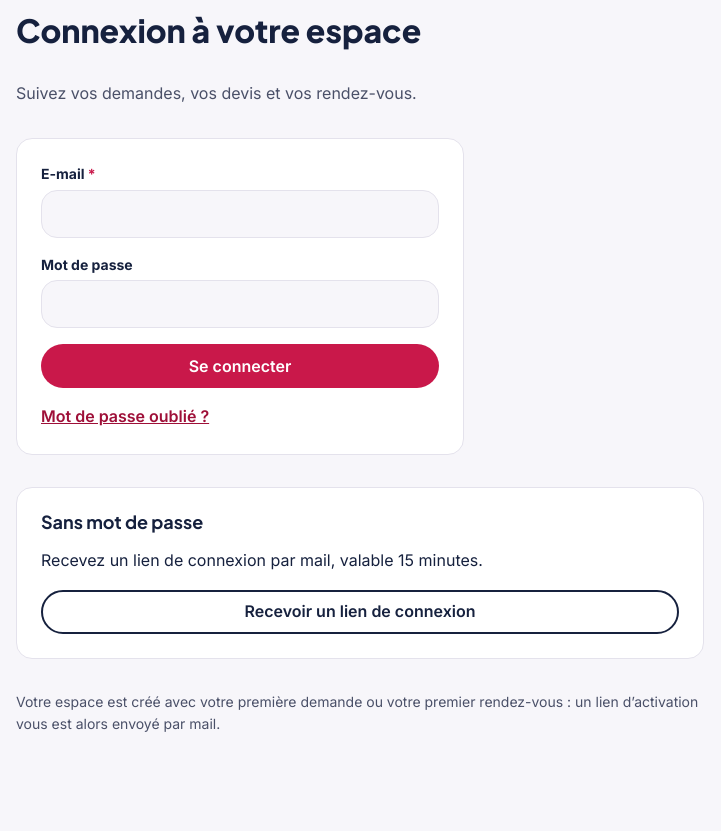
it: Connexion › signale des identifiants incorrects sans dire lequel
In the field labelled "E-mail *": (240, 214) [41, 190, 439, 238], type "marie@exemple.fr"
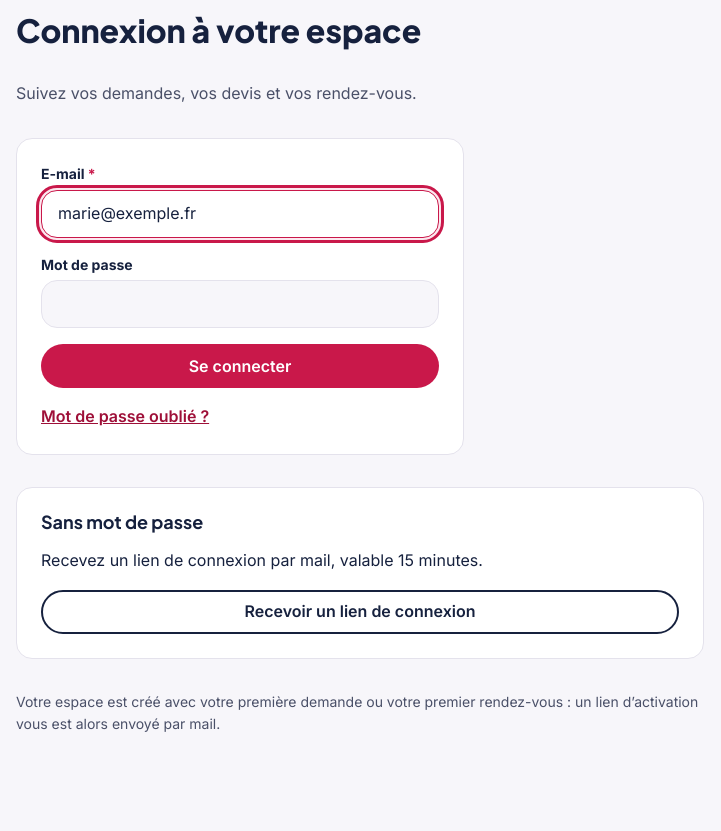
In the password field labelled "Mot de passe": (240, 304) [41, 280, 439, 328], type "mauvais"
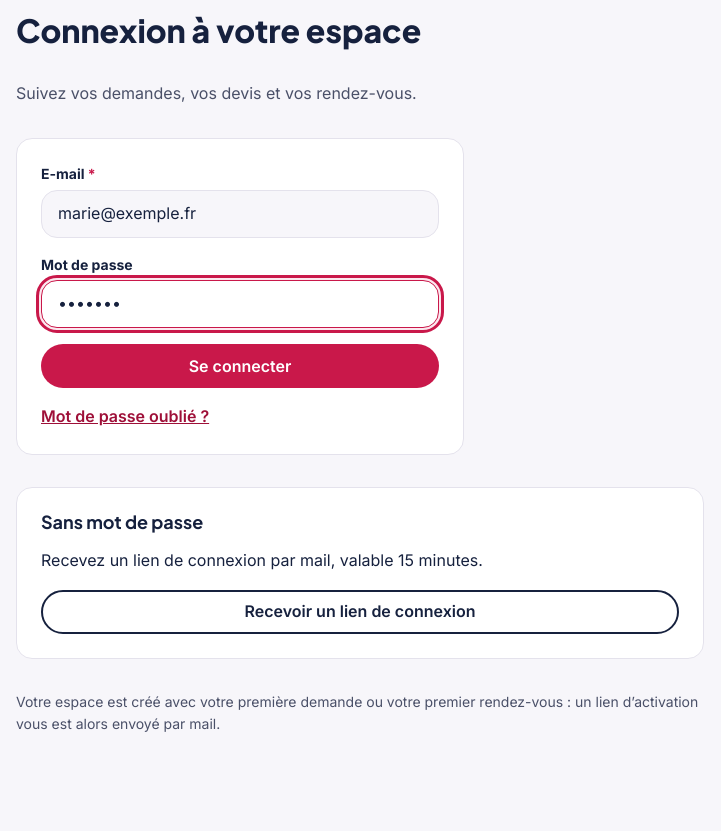
Click the button "Se connecter": (240, 366) [41, 344, 439, 388]
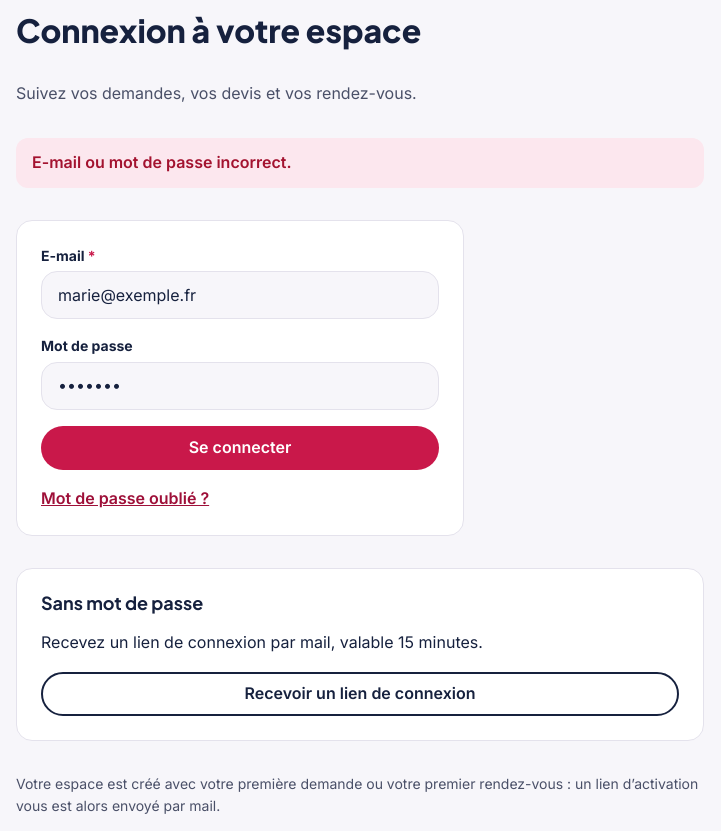
Expected: the message reads "E-mail ou mot de passe incorrect.", [32, 152, 292, 172]
